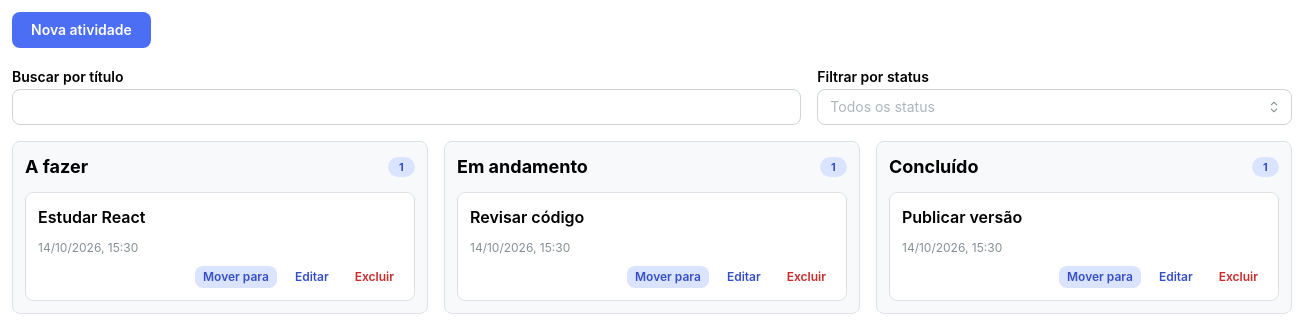
KanbanBoard › estados de carregamento, erro e vazio › mostra "nenhuma atividade encontrada" quando a busca não tem resultados
This screenshot has width=1304, height=331.
expect the text "Estudar React" is shown: met, box [38,207,146,227]
Type "inexistente" into the field labelled "Buscar por título" at {"x": 407, "y": 107}, box [12,89,801,125]
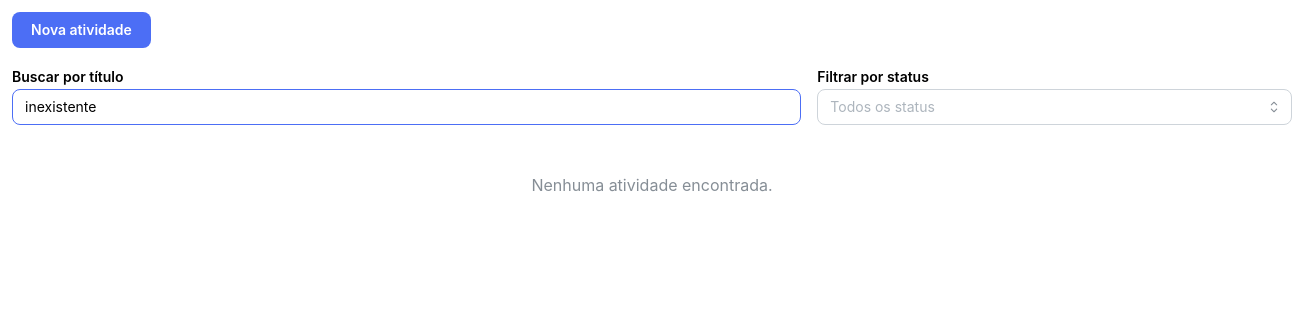
expect the text "Nenhuma atividade encontrada." is shown: met, box [531,173,773,198]
